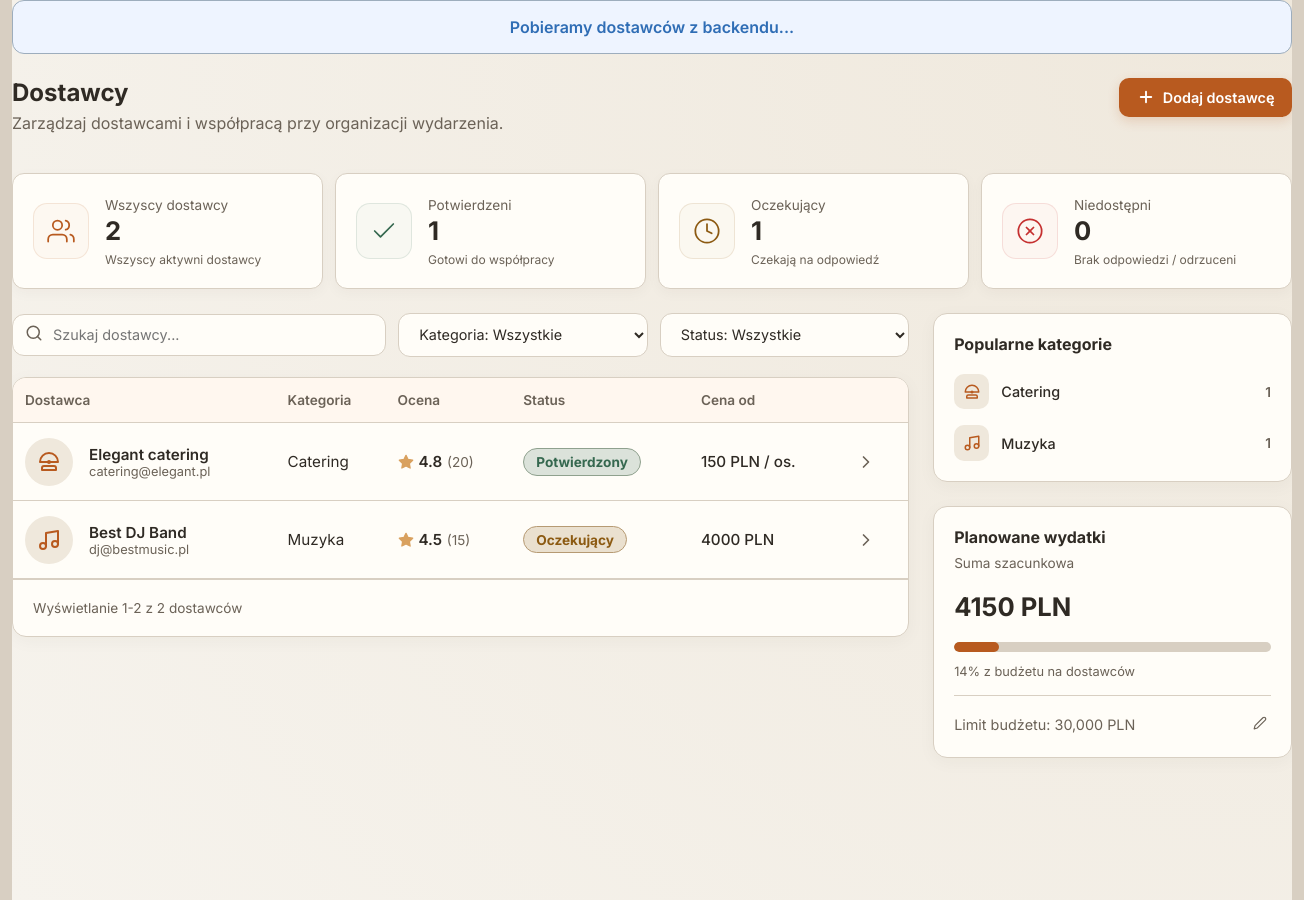
Test: VendorsPage Component › filters vendors by search text query
Type "catering" into the field with placeholder "Szukaj dostawcy..." at (199, 335), box [12,314,386,356]
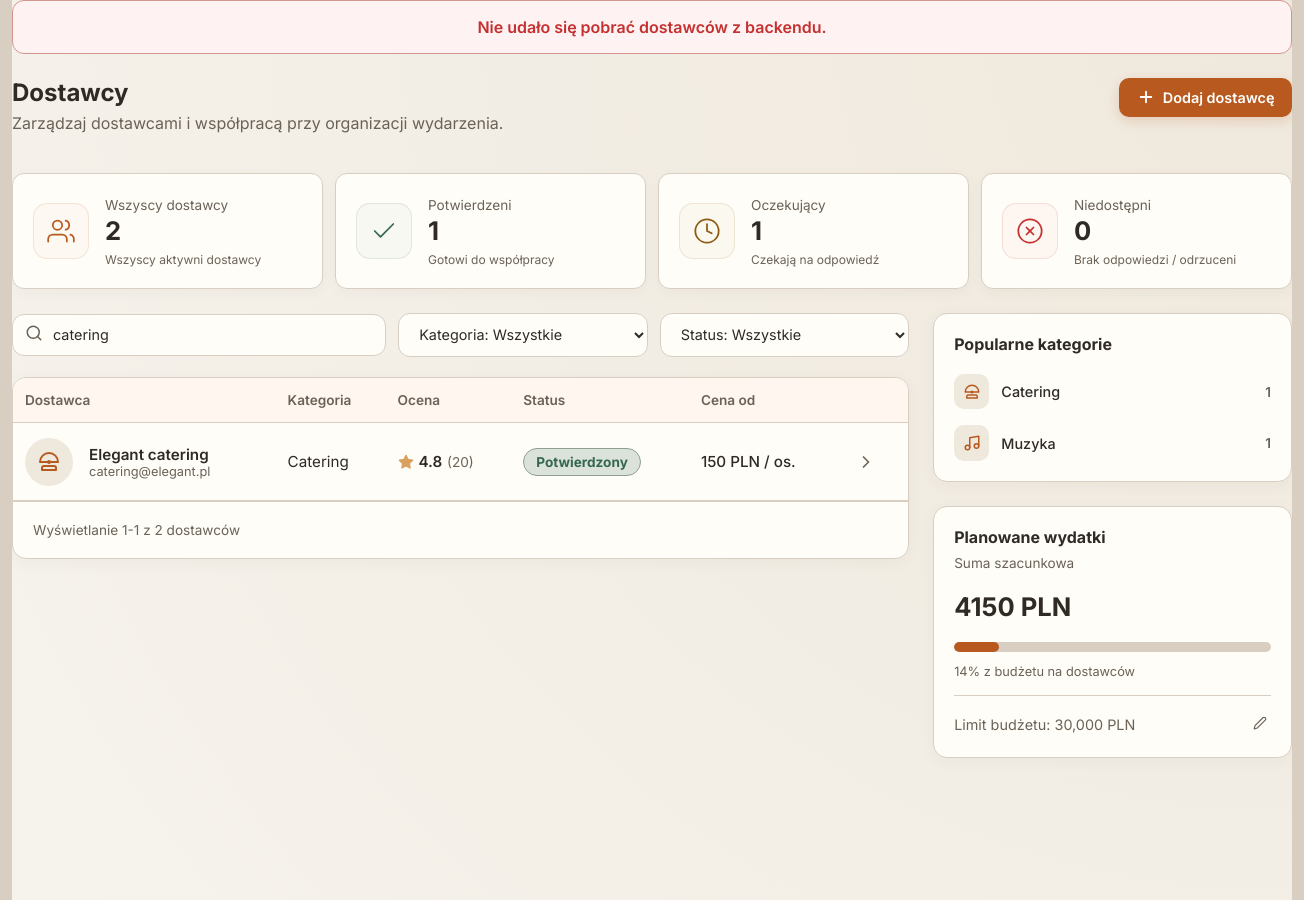
Check: the text "Elegant catering" is shown, box [89,445,210,464]
Check: the text "Best DJ Band" is gone
